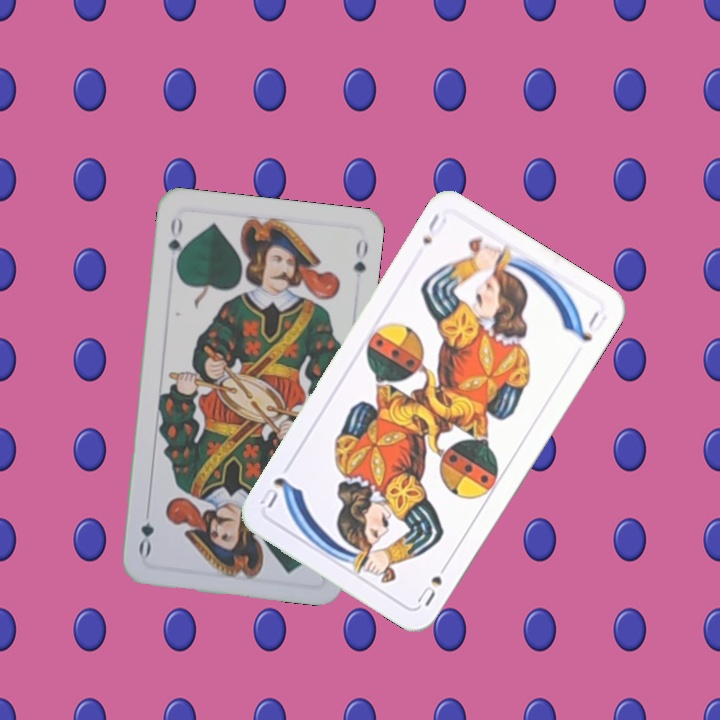GO: (164, 212, 187, 272)
SU: (413, 556, 452, 609), (418, 209, 450, 248)
